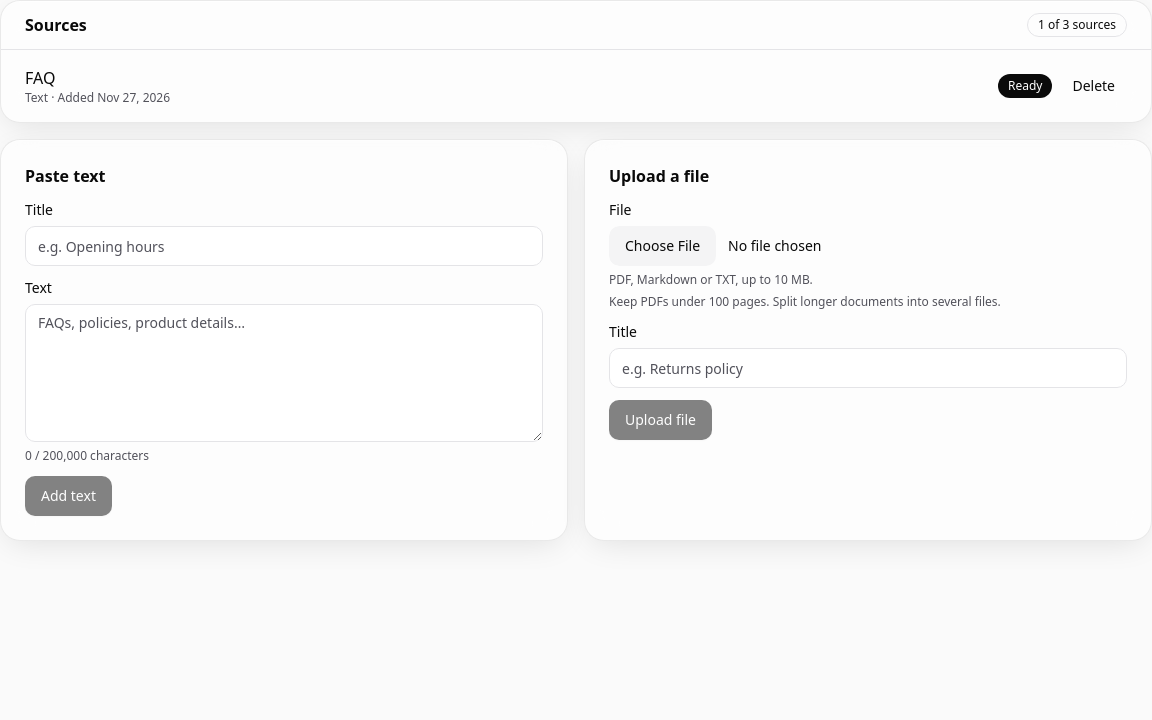
Scenario: delete › cancel closes the confirm without a request
Click the button "Delete": (1094, 86) [1060, 70, 1127, 102]
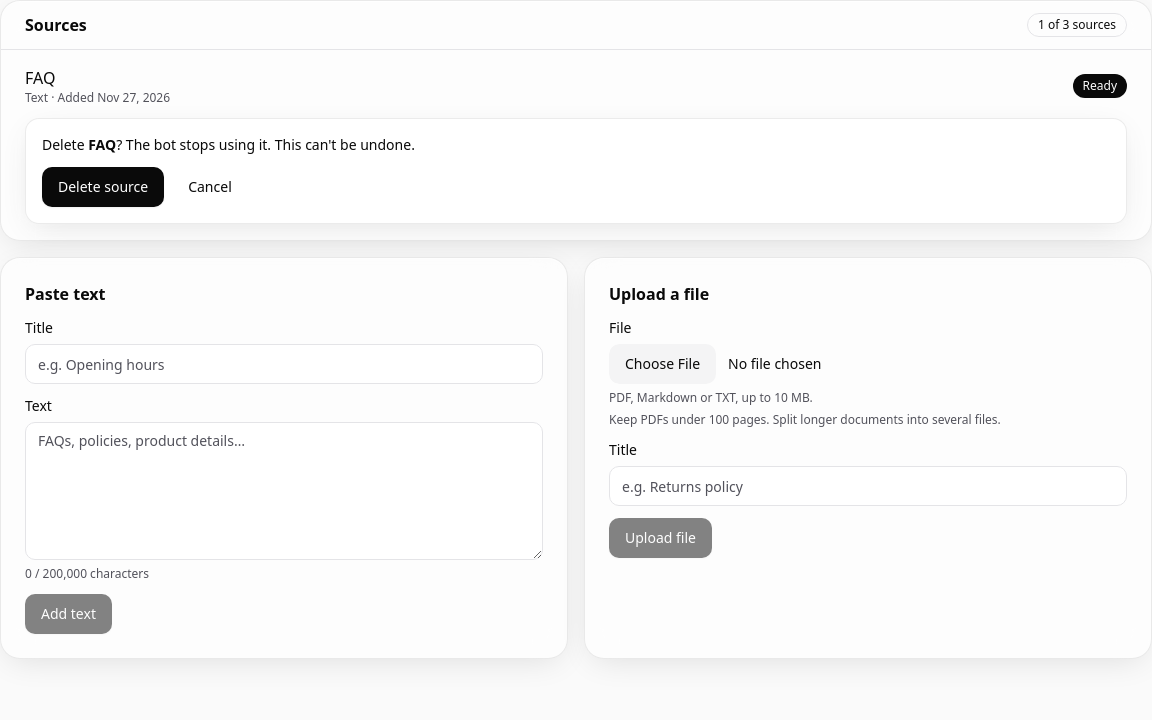
Click the button "Cancel": (210, 187) [172, 167, 248, 207]
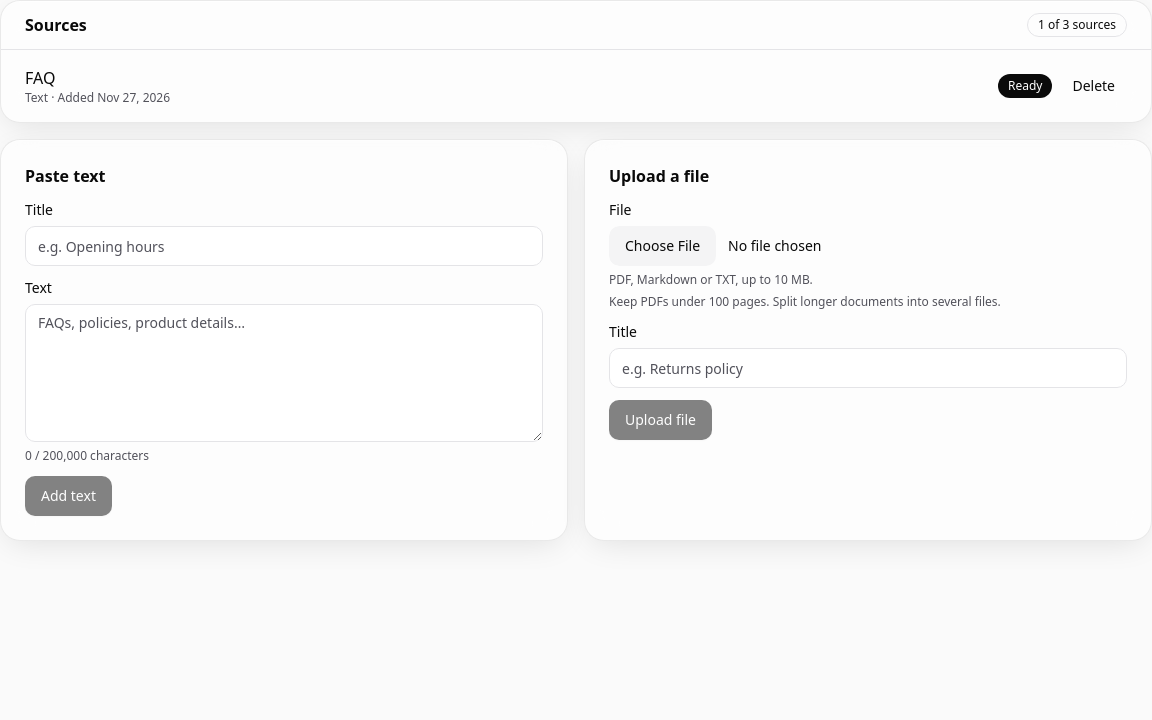
Expected: the element "Delete FAQ" is gone
